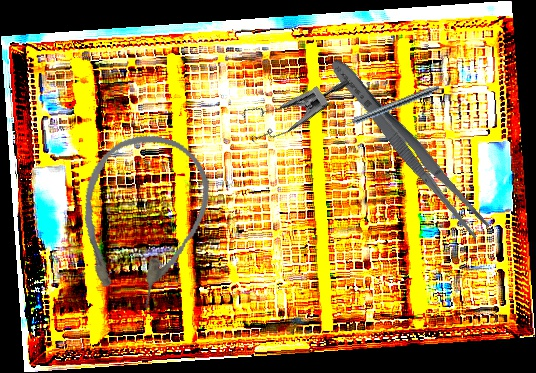Cannula: (60, 122, 222, 318)
Dressing Forceps: (323, 52, 493, 242)
Handpiece: (335, 81, 441, 133)
Speculum: (233, 44, 351, 161)
